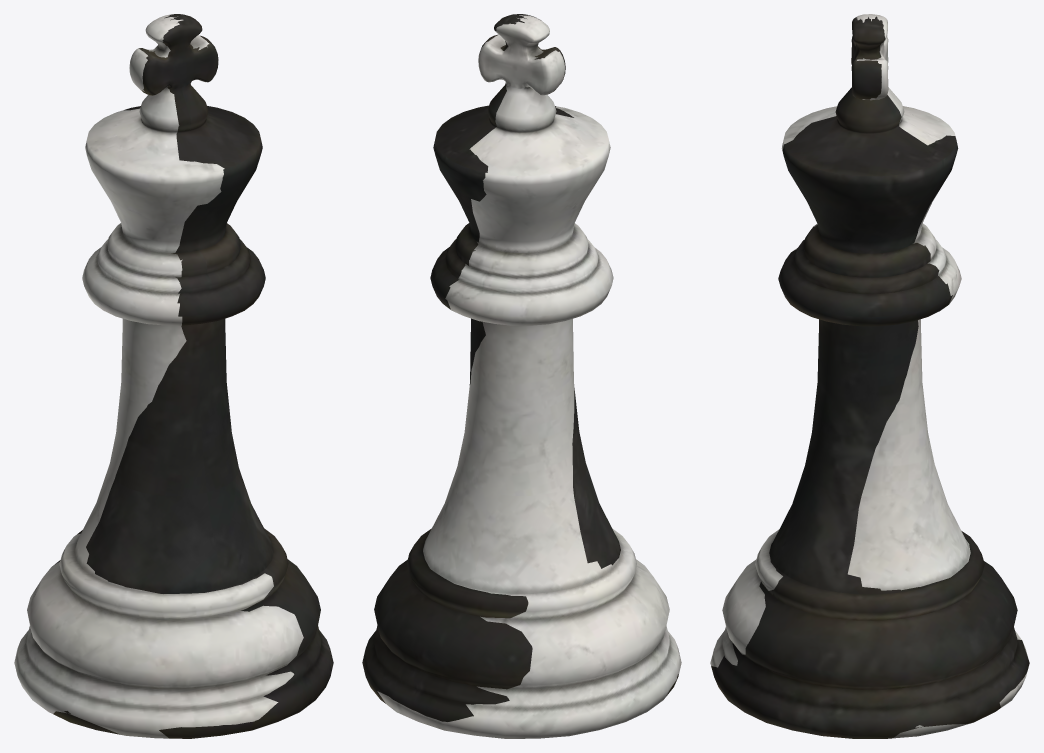
The model's file is kings.glb.
3 renders of one model, left to right at view 1: azimuth 30°, elevation 25°; view 2: azimuth 150°, elevation 25°; view 3: azimuth 270°, elevation 25°, orthographic.
Parts seen in each view (by area): view 1: king_white, king_black; view 2: king_white, king_black; view 3: king_black, king_white.
Part boxes in pixels (x1=…): king_white: x1=14, y1=14, x2=303, y2=738; king_black: x1=53, y1=14, x2=333, y2=738; king_white: x1=365, y1=15, x2=681, y2=738; king_black: x1=362, y1=14, x2=678, y2=721; king_black: x1=711, y1=16, x2=1029, y2=738; king_white: x1=710, y1=14, x2=1027, y2=738.
Size of the model in its own units: 0.0415 by 0.095 by 0.0417.
2 materials, 2 textured.
